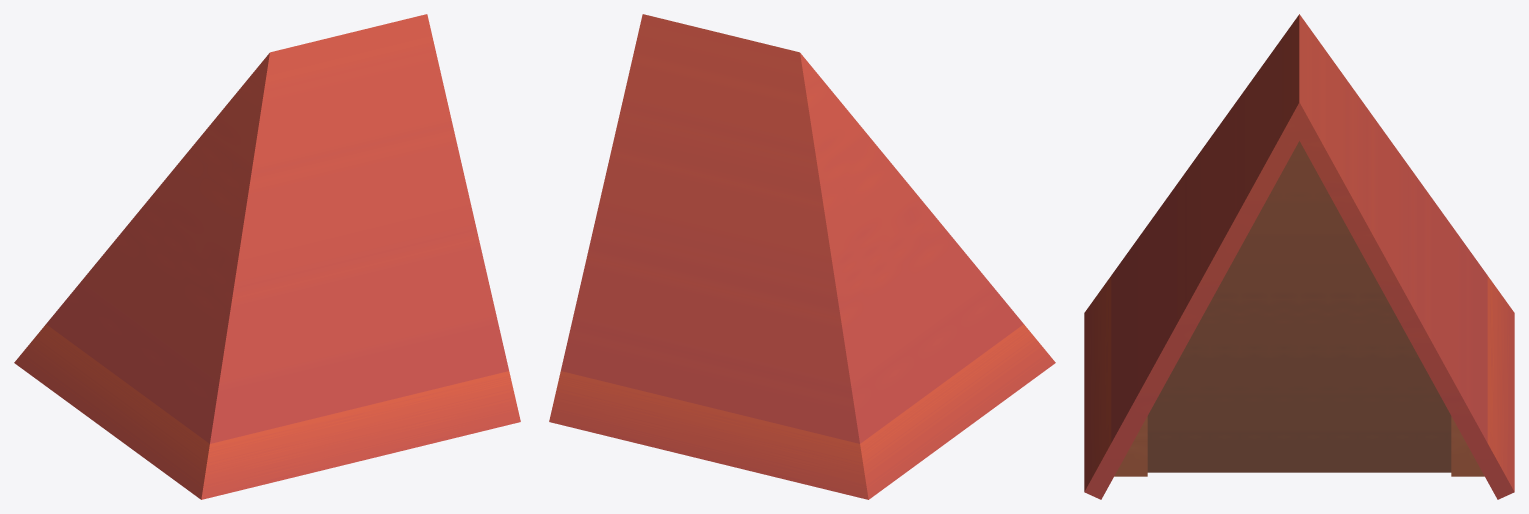
The model's file is roofHighGableEnd.fbx.
The picture shows the model from 3 angles, left to right: view 1: azimuth 30°, elevation 25°; view 2: azimuth 150°, elevation 25°; view 3: azimuth 270°, elevation 25°; orthographic projection. The views are drawn at different scales.
Visible parts, largest first — view 1: roofHighGableEnd; view 2: roofHighGableEnd; view 3: roofHighGableEnd.
Part boxes in pixels (box(x1,y1,x2,y2)): roofHighGableEnd: box(14, 14, 520, 499); roofHighGableEnd: box(549, 14, 1055, 499); roofHighGableEnd: box(1084, 14, 1514, 499).
Bounding box in the file's own units: 1.12 × 1.13 × 1.16.
